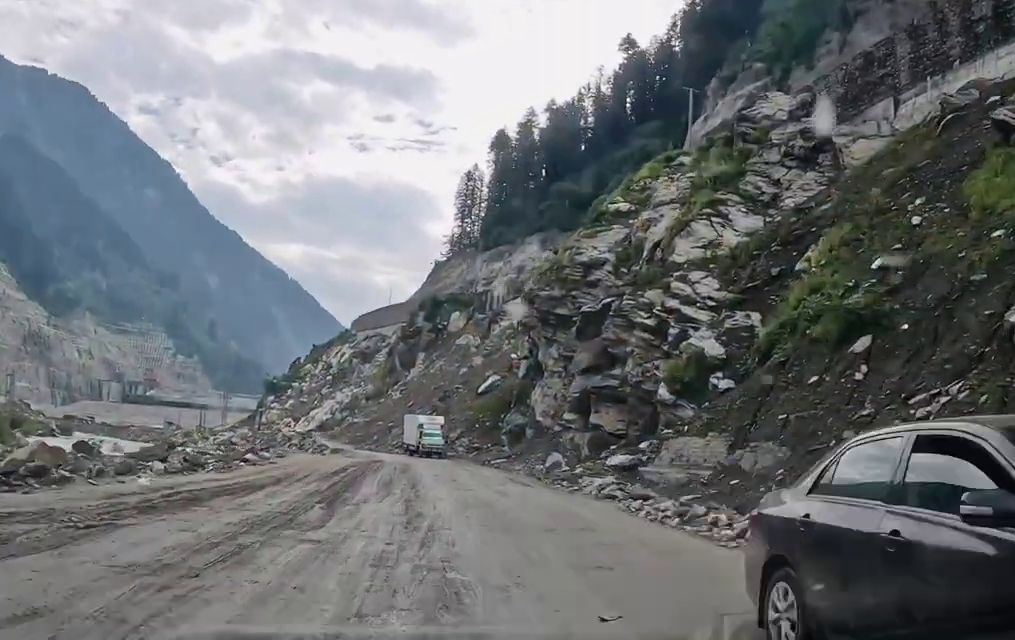unexpected: (177, 411, 406, 613)
